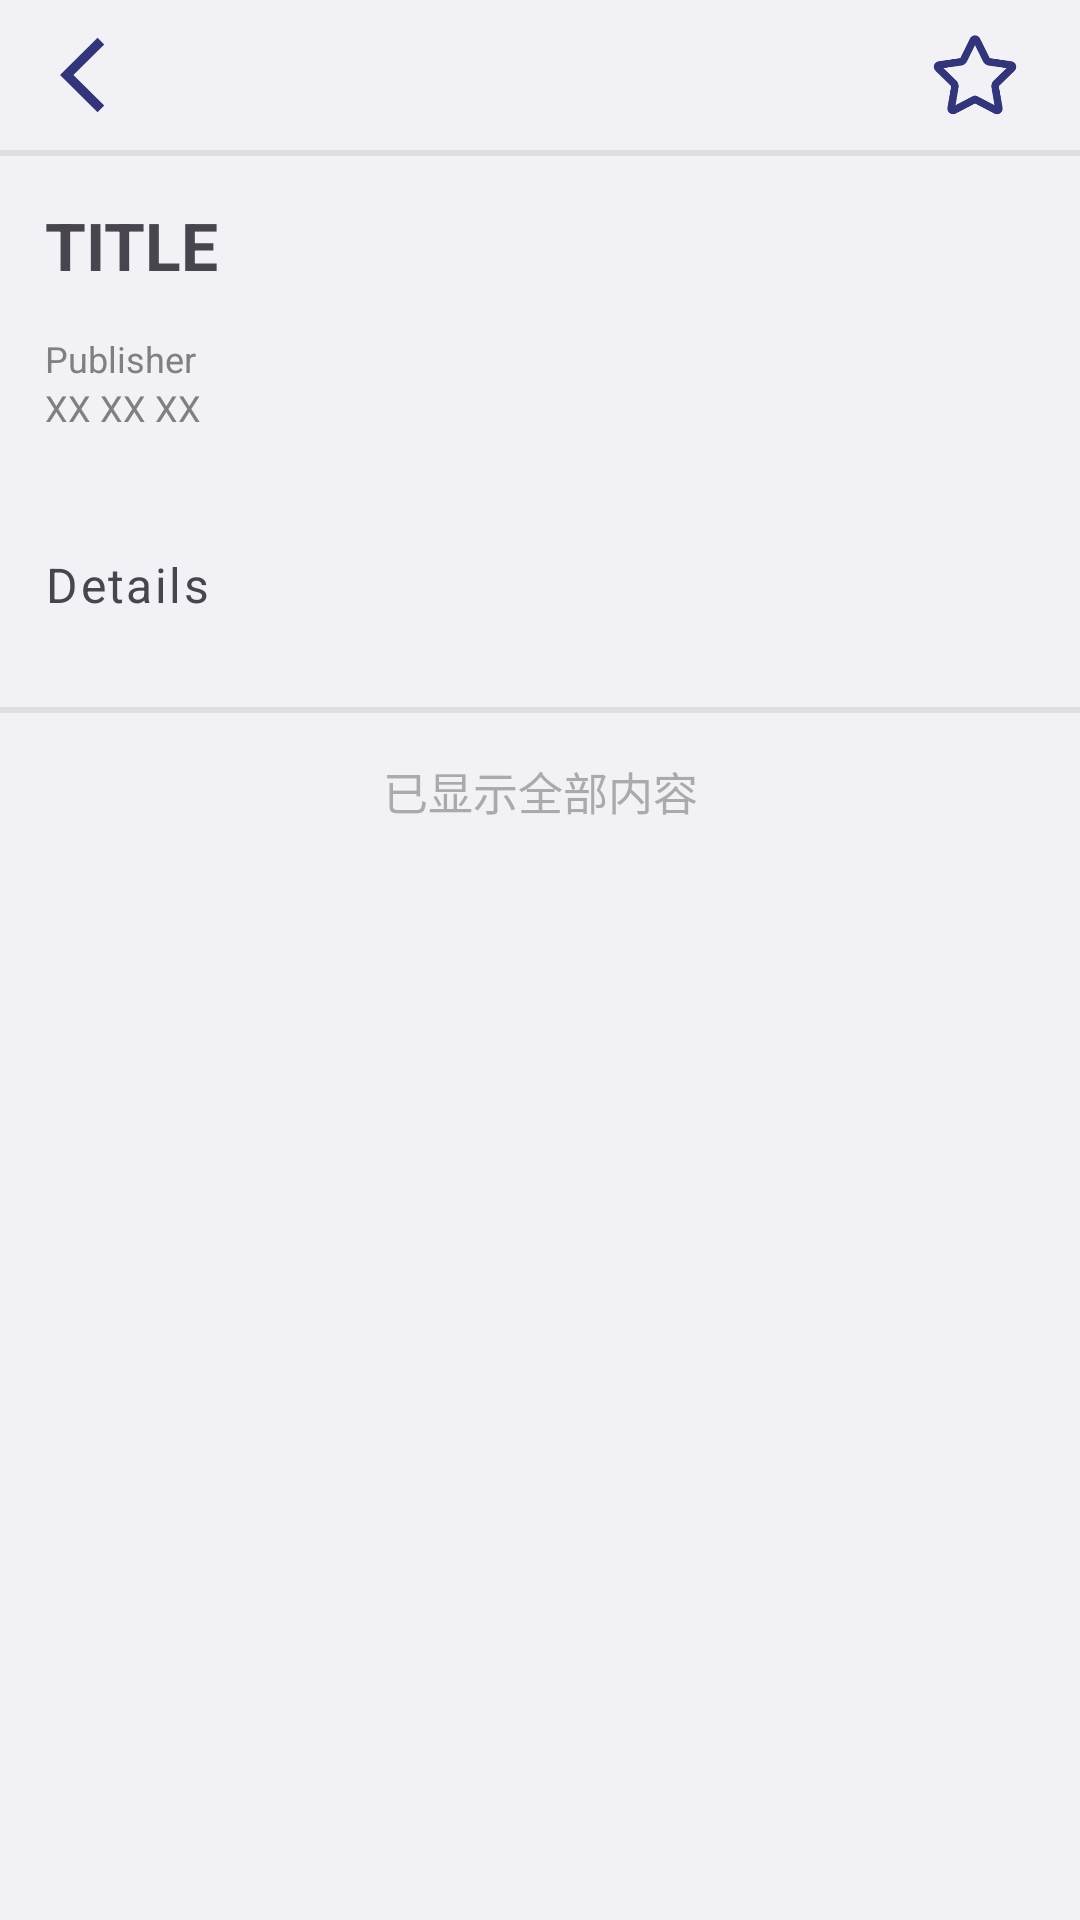

Screen size 1080w x 1920h. Icon name, then its box in pixels as [left=x1, top=y1, right=x2, bottom=y2]:
arrow back: [left=60, top=38, right=104, bottom=112]
collect: [left=934, top=35, right=1016, bottom=115]
